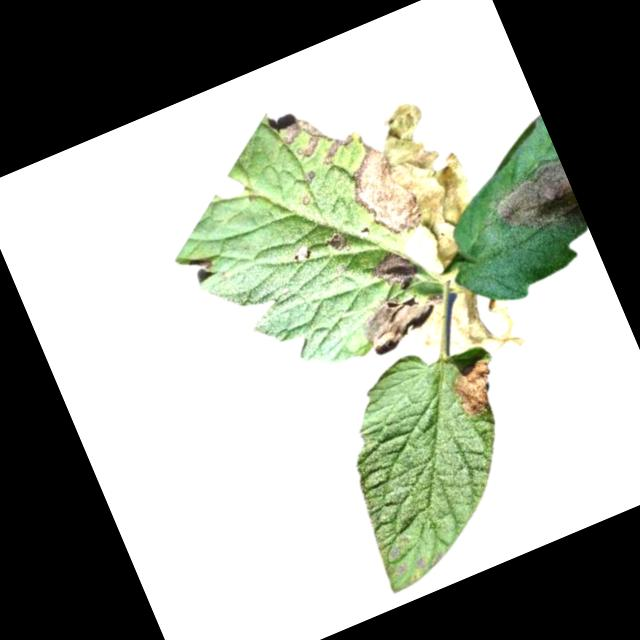Late_blight: (360, 89, 499, 276), (337, 134, 427, 248), (430, 272, 530, 368), (488, 161, 583, 247), (277, 98, 365, 177), (357, 285, 448, 358), (445, 356, 507, 420), (395, 303, 454, 362), (369, 243, 424, 300), (324, 228, 353, 259), (188, 252, 214, 277)
